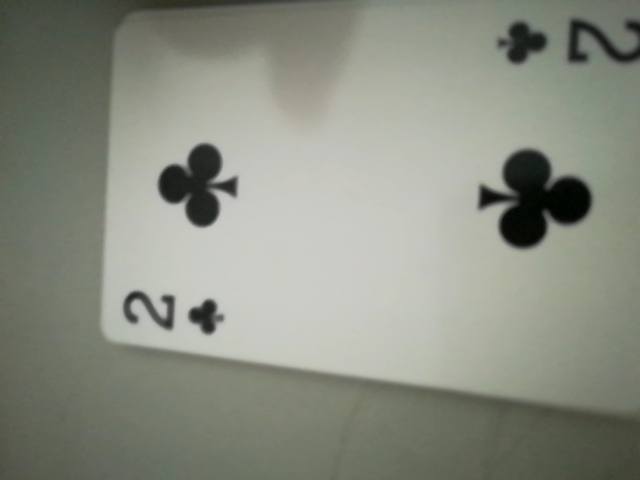mh 2: (492, 5, 640, 80), (113, 279, 237, 344)
